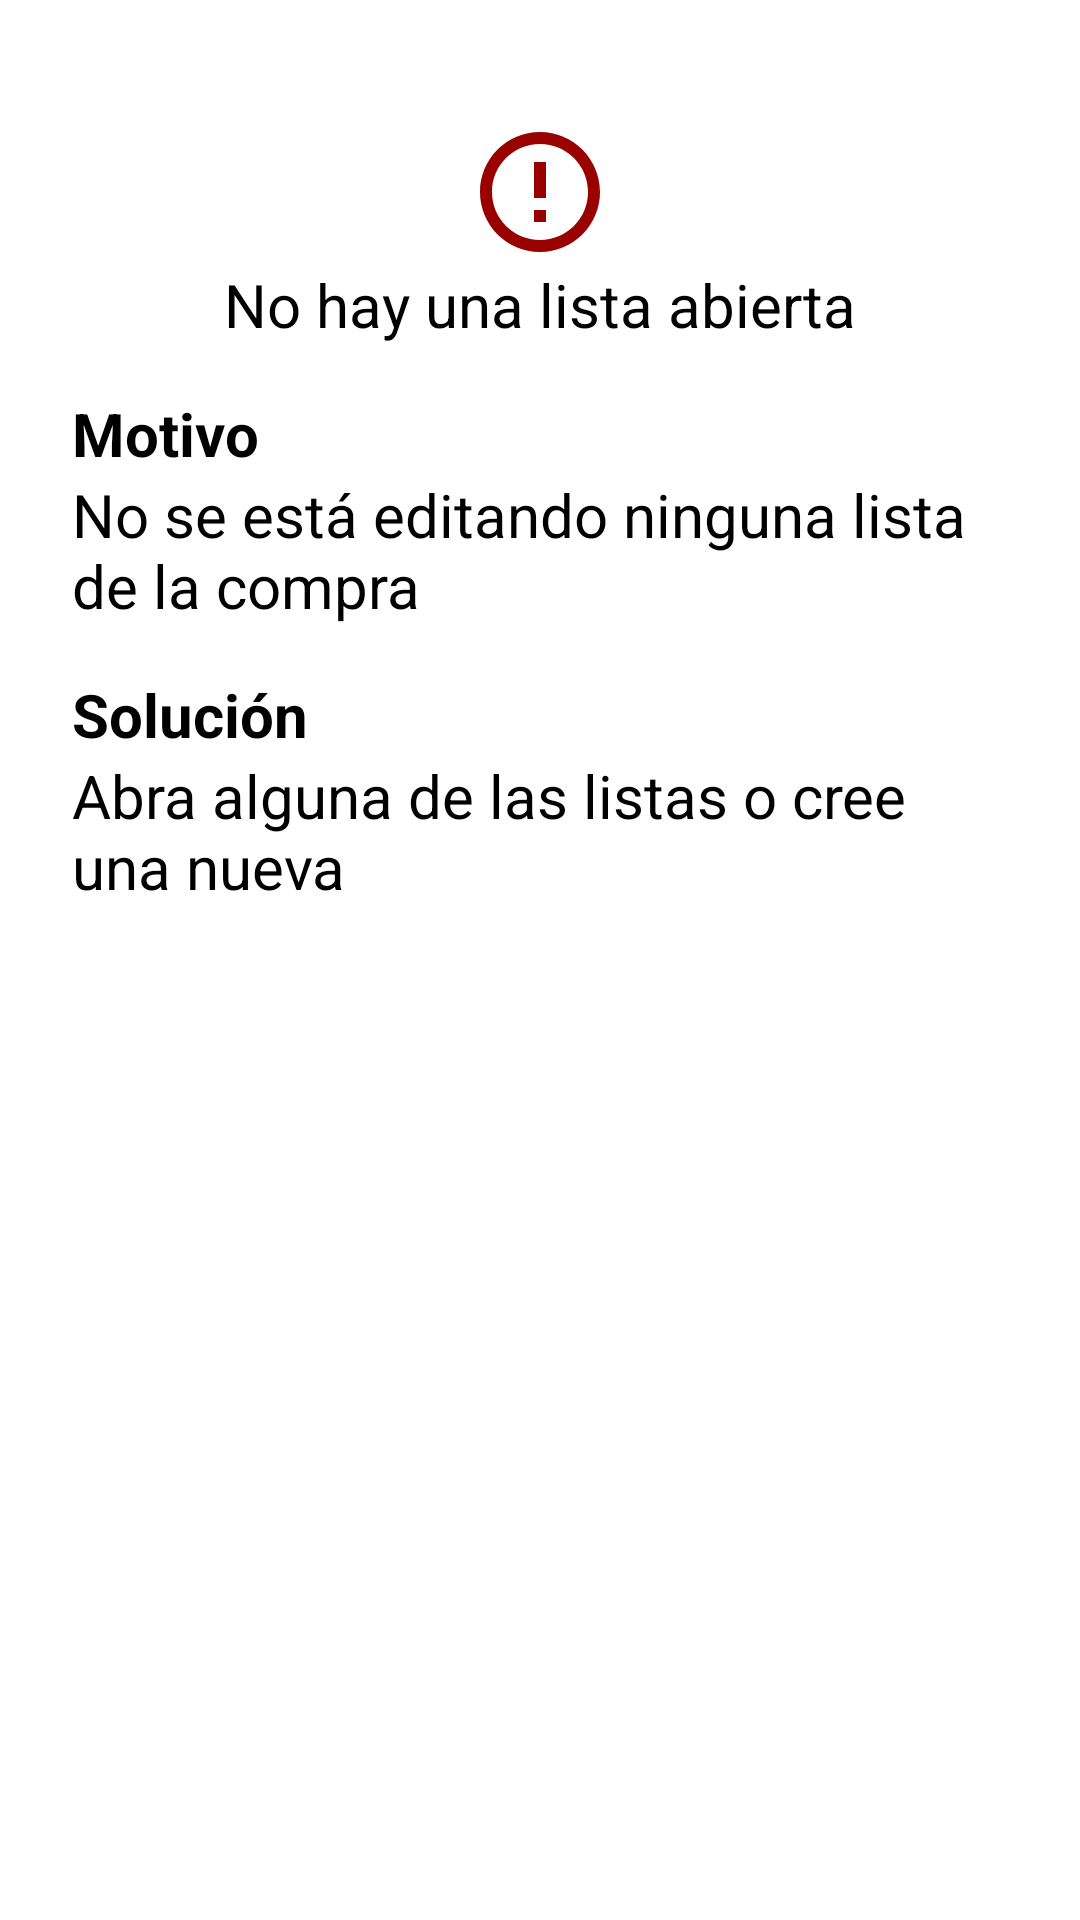

Icon click points for this 1080px x 1920px phone screenshot, format (x=x, y=y):
error: (x=540, y=192)
